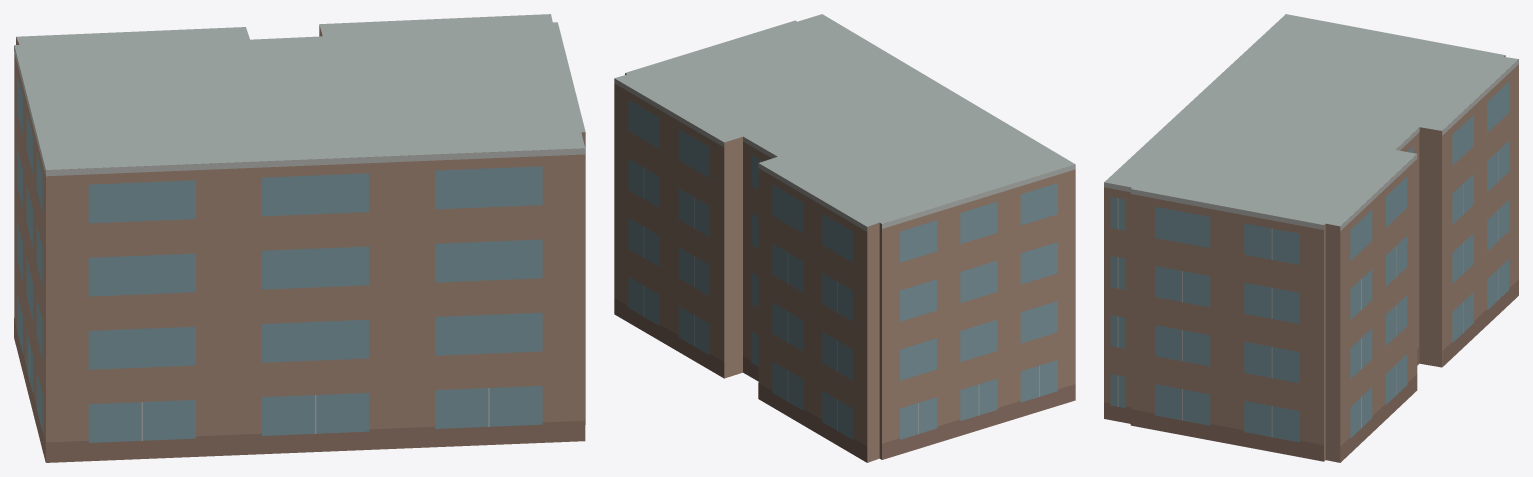
File: survey-upis-32670123.glb
3 views of the same model, side by side, from view 1: azimuth 30°, elevation 25°; view 2: azimuth 150°, elevation 25°; view 3: azimuth 270°, elevation 25° (orthographic). The views are drawn at different scales.
Parts seen in each view (by area): view 1: survey-upis-32670123.tmp; view 2: survey-upis-32670123.tmp; view 3: survey-upis-32670123.tmp.
Boxes of the visible parts, bbox=[...] form: survey-upis-32670123.tmp: bbox=[14, 14, 585, 462]; survey-upis-32670123.tmp: bbox=[614, 14, 1075, 462]; survey-upis-32670123.tmp: bbox=[1104, 14, 1518, 462].
Bounding box in the file's own units: 22.34 × 11.6 × 18.44.
